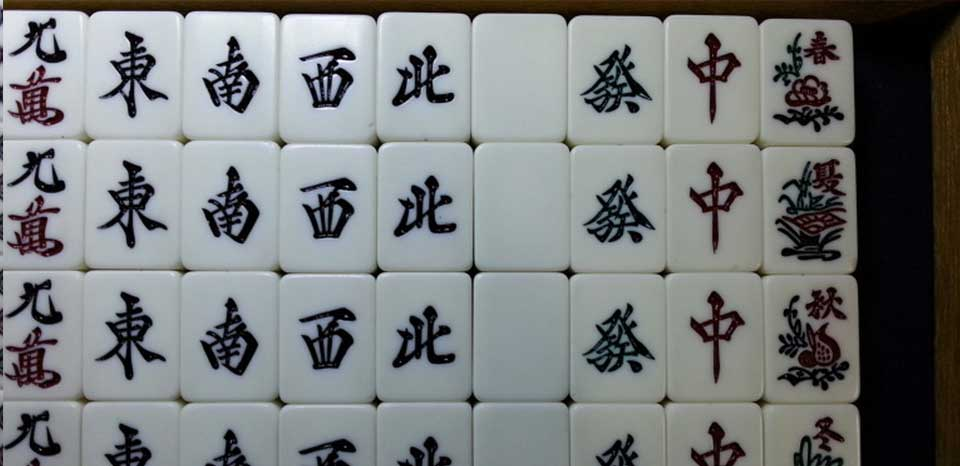honour_1: (82, 135, 184, 270)
honour_2: (184, 274, 279, 399), (186, 10, 277, 140)
honour_3: (274, 15, 375, 147), (277, 146, 377, 276)
honour_4: (366, 272, 477, 404), (375, 12, 474, 144)
honour_5: (470, 270, 575, 404)
honour_6: (570, 142, 670, 274)
honour_7: (668, 270, 768, 404)
man_9: (1, 10, 93, 134)
